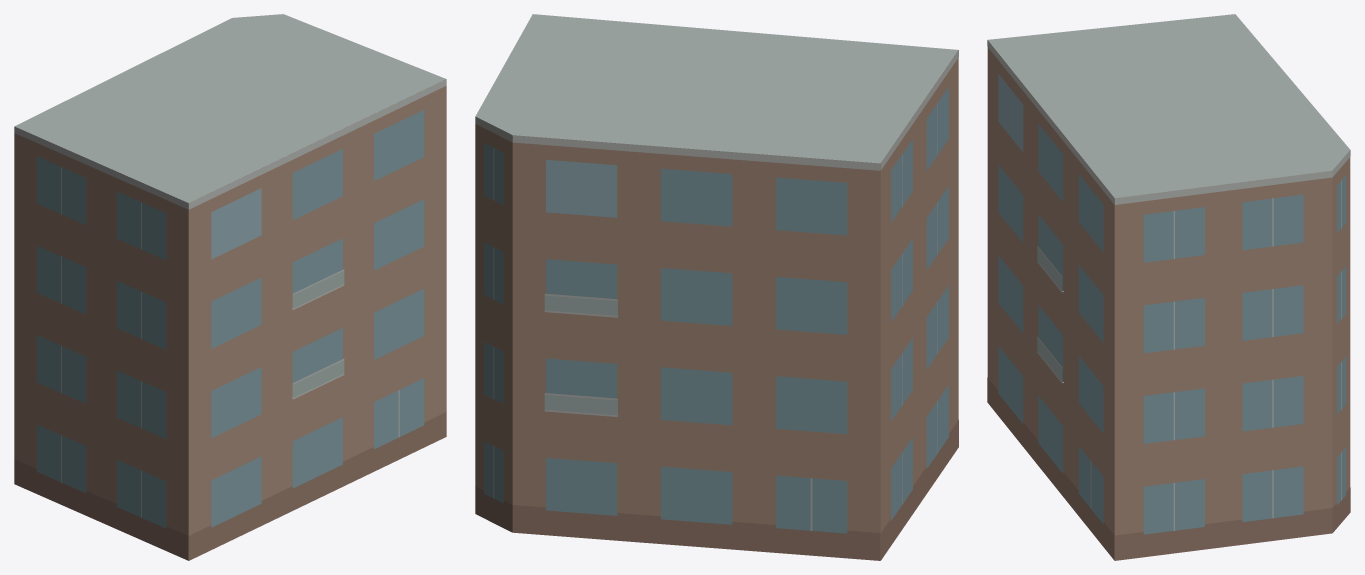
File: survey-upis-32640750.glb
The picture shows the model from 3 angles, left to right: view 1: azimuth 30°, elevation 25°; view 2: azimuth 150°, elevation 25°; view 3: azimuth 270°, elevation 25°; orthographic projection. The views are drawn at different scales.
Visible parts, largest first — view 1: survey-upis-32640750.tmp; view 2: survey-upis-32640750.tmp; view 3: survey-upis-32640750.tmp.
Part boxes in pixels (x1=…): survey-upis-32640750.tmp: x1=14, y1=14, x2=446, y2=560; survey-upis-32640750.tmp: x1=475, y1=14, x2=958, y2=560; survey-upis-32640750.tmp: x1=987, y1=14, x2=1350, y2=560.
Bounding box in the file's own units: 14.4 × 13.2 × 11.99.
